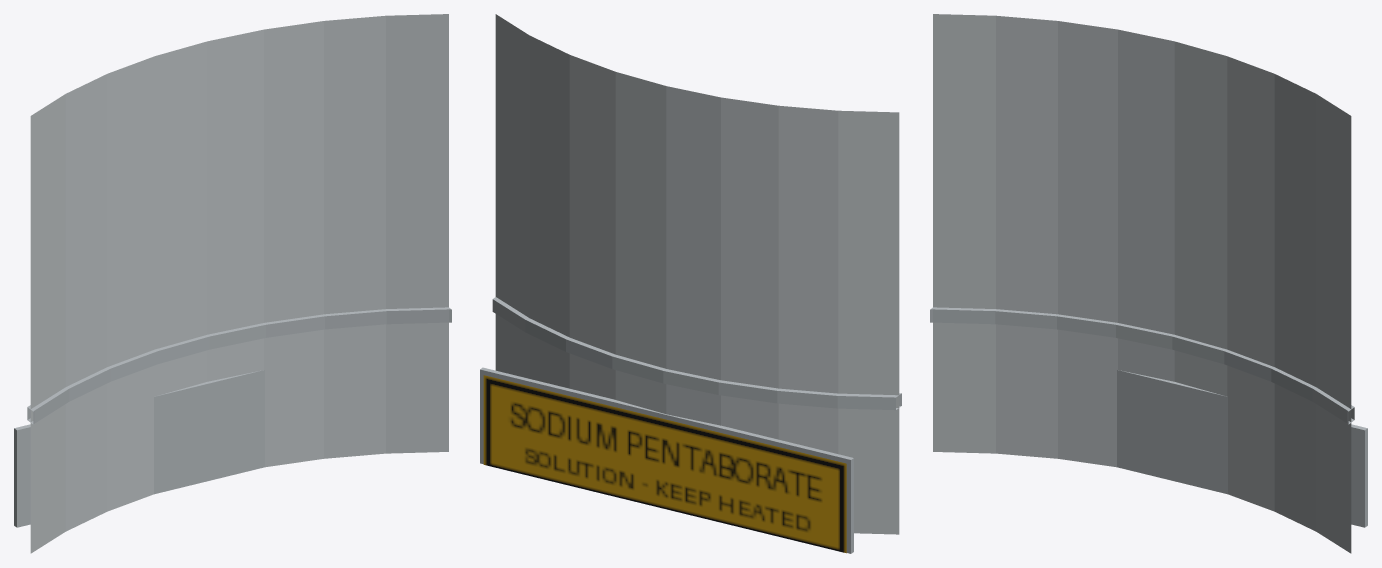
The model's file is cell_19.obj.
3 views of the same model, side by side, from view 1: azimuth 30°, elevation 25°; view 2: azimuth 150°, elevation 25°; view 3: azimuth 330°, elevation 25° (orthographic). The views are drawn at different scales.
Size of the model in its own units: 1 by 1 by 0.158.
